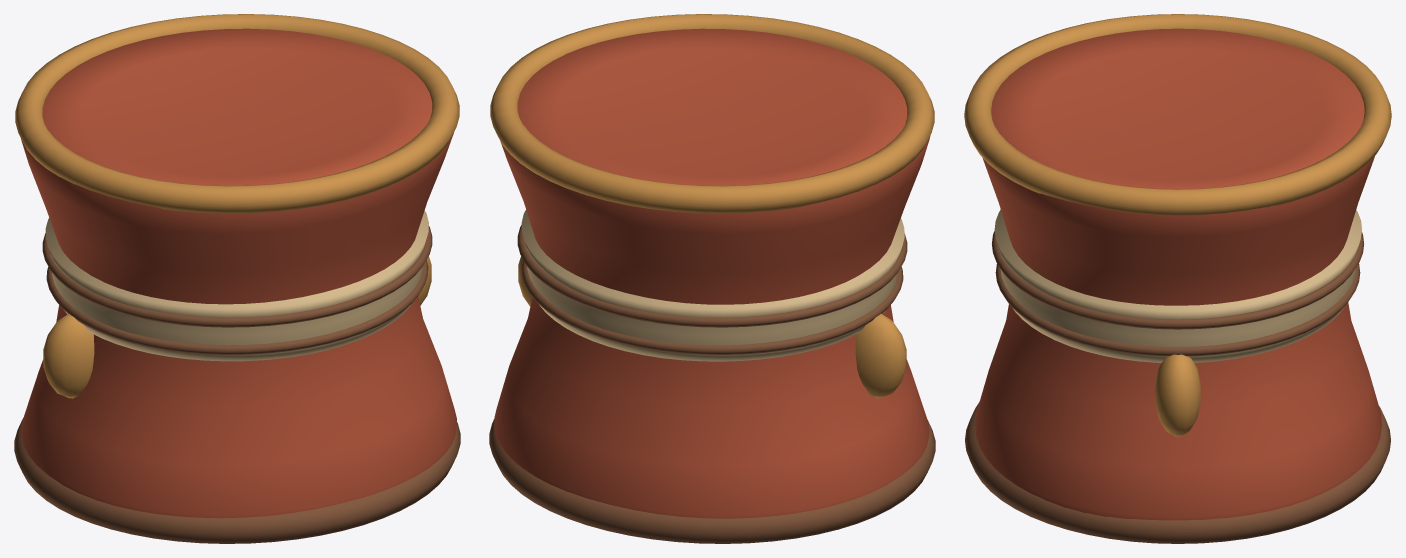
The model's file is deco_seat_clay.fbx.
3 views of the same model, side by side, from view 1: azimuth 30°, elevation 25°; view 2: azimuth 150°, elevation 25°; view 3: azimuth 270°, elevation 25° (orthographic).
Parts seen in each view (by area): view 1: Seat_Clay_Body, Seat_Clay_RimBead, Seat_Clay_Band, Seat_Clay_FootRing, Seat_Clay_StripeHigh, Seat_Clay_StripeLow, Seat_Clay_LugLeft; view 2: Seat_Clay_Body, Seat_Clay_RimBead, Seat_Clay_Band, Seat_Clay_FootRing, Seat_Clay_StripeHigh, Seat_Clay_StripeLow, Seat_Clay_LugLeft; view 3: Seat_Clay_Body, Seat_Clay_RimBead, Seat_Clay_Band, Seat_Clay_FootRing, Seat_Clay_StripeHigh, Seat_Clay_StripeLow, Seat_Clay_LugRight.
Part boxes in pixels (x1,y1,x2,y2): Seat_Clay_Body: [21, 28, 456, 518]; Seat_Clay_RimBead: [15, 14, 459, 213]; Seat_Clay_Band: [45, 210, 428, 361]; Seat_Clay_FootRing: [14, 417, 460, 543]; Seat_Clay_StripeHigh: [42, 226, 432, 327]; Seat_Clay_StripeLow: [46, 260, 428, 354]; Seat_Clay_LugLeft: [43, 314, 94, 398]; Seat_Clay_Body: [494, 28, 930, 518]; Seat_Clay_RimBead: [490, 14, 934, 213]; Seat_Clay_Band: [521, 210, 904, 361]; Seat_Clay_FootRing: [489, 419, 935, 543]; Seat_Clay_StripeHigh: [517, 225, 907, 327]; Seat_Clay_StripeLow: [521, 260, 903, 354]; Seat_Clay_LugLeft: [855, 314, 906, 398]; Seat_Clay_Body: [975, 28, 1382, 520]; Seat_Clay_RimBead: [964, 14, 1391, 215]; Seat_Clay_Band: [994, 209, 1361, 362]; Seat_Clay_FootRing: [965, 402, 1390, 543]; Seat_Clay_StripeHigh: [992, 231, 1363, 329]; Seat_Clay_StripeLow: [995, 263, 1360, 356]; Seat_Clay_LugRight: [1155, 354, 1200, 436].
Bounding box in the file's own units: 64.6 × 56.5 × 61.8.
